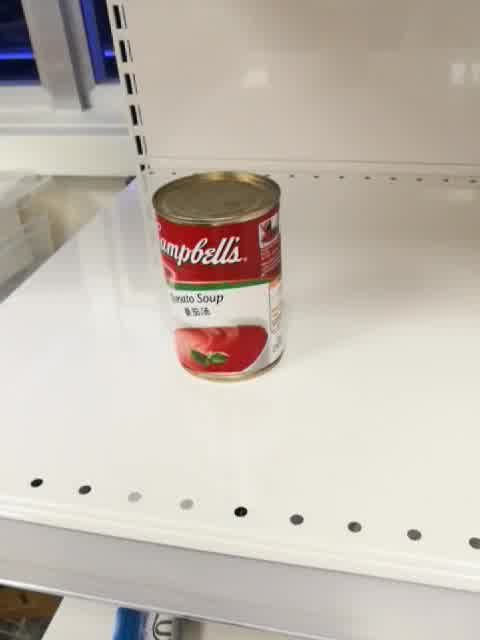tomatosoup: (150, 168, 286, 383)
